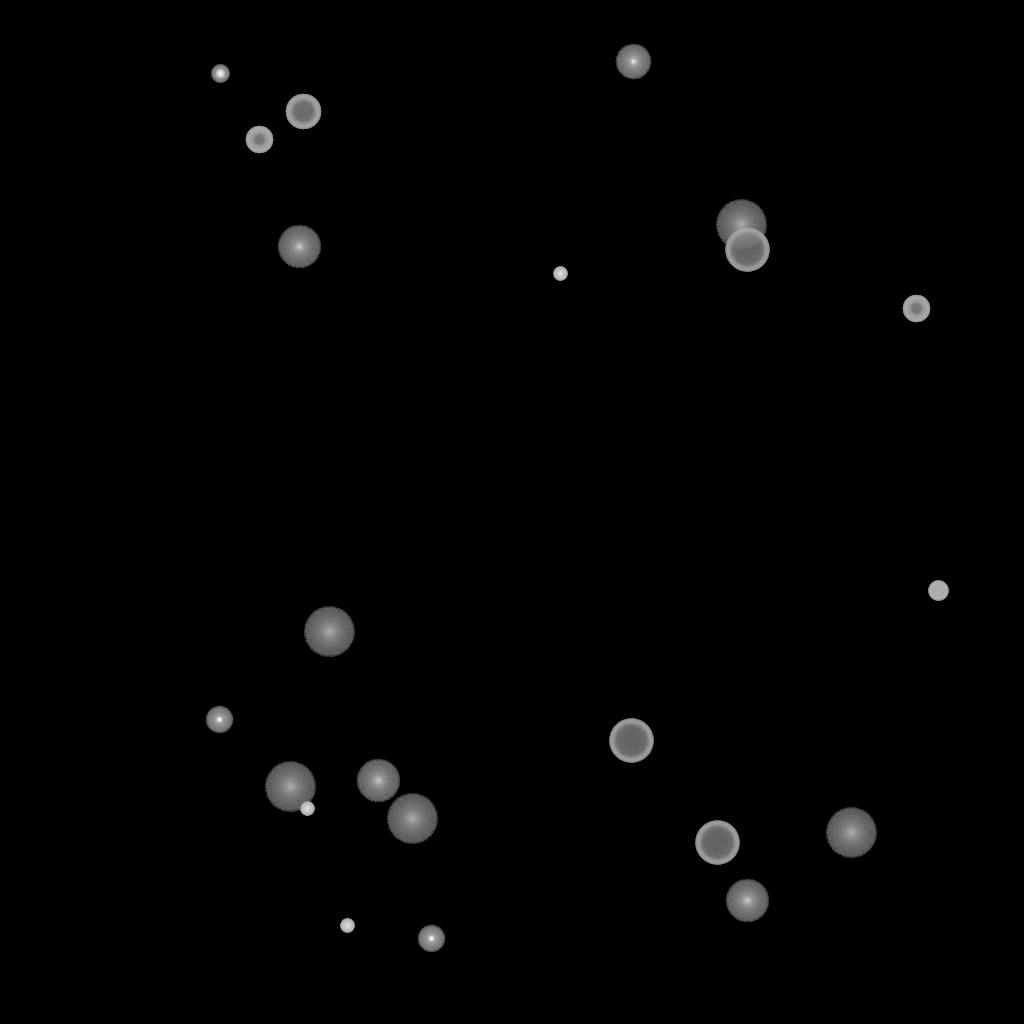depth:-10: (205, 706, 233, 734), (417, 925, 445, 953)
depth:-20: (211, 65, 229, 83)
depth:-30: (300, 802, 314, 816), (340, 919, 354, 933), (553, 267, 567, 281)
depth:-40: (928, 581, 948, 601)
depth:-50: (902, 295, 930, 323), (245, 126, 273, 154)
depth:-60: (285, 94, 321, 130)
depth:-70: (725, 228, 769, 272), (695, 821, 739, 865), (609, 719, 653, 763)
depth:0: (615, 44, 651, 80)
depth:10: (277, 225, 321, 269), (356, 759, 400, 803), (725, 879, 769, 923)
depth:20: (264, 762, 316, 812), (303, 607, 355, 657), (386, 794, 438, 844), (825, 808, 877, 858), (715, 200, 767, 250)
